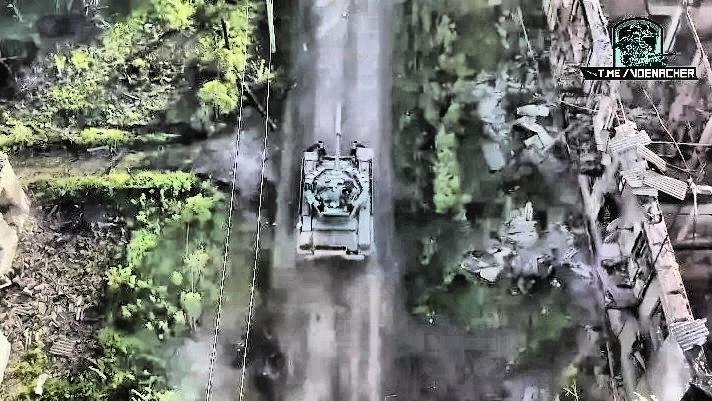military-vehicle: (294, 144, 375, 261)
